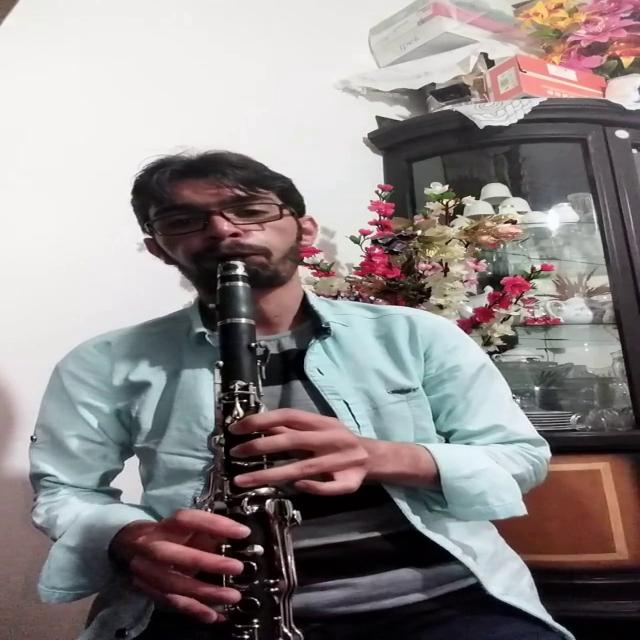Clarinet: (197, 252, 330, 640)
